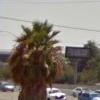Palm tree: (10, 12, 64, 98)
